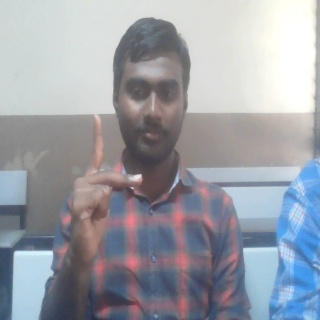Okay: (65, 112, 144, 264)
